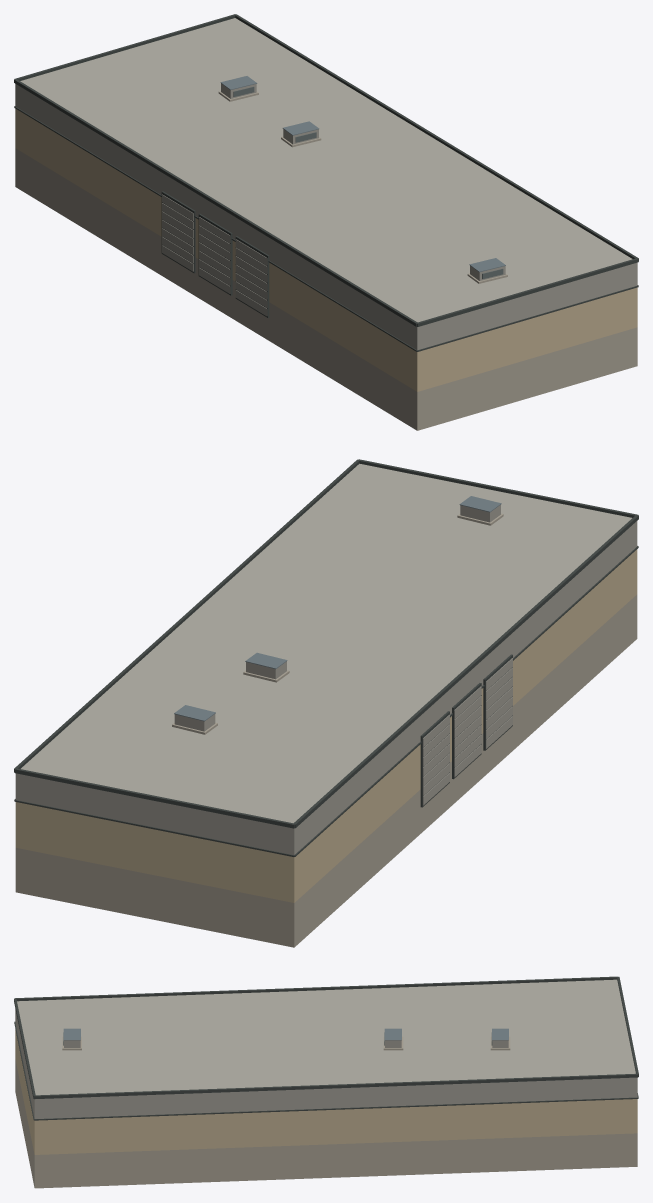
The model's file is oxford-district-transportation.glb.
The picture shows the model from 3 angles, top to bottom: view 1: azimuth 30°, elevation 25°; view 2: azimuth 150°, elevation 25°; view 3: azimuth 270°, elevation 25°; orthographic projection. The views are drawn at different scales.
Parts seen in each view (by area): view 1: 599935971 | Roof, 599935971 | Facades, 599935971 | Shell and foundation; view 2: 599935971 | Roof, 599935971 | Facades, 599935971 | Shell and foundation; view 3: 599935971 | Roof, 599935971 | Shell and foundation, 599935971 | Facades.
Part boxes in pixels (left/top/right/bottom): 599935971 | Roof: left=15, top=18, right=637, bottom=430; 599935971 | Facades: left=14, top=14, right=638, bottom=351; 599935971 | Shell and foundation: left=15, top=108, right=637, bottom=391; 599935971 | Roof: left=15, top=463, right=637, bottom=947; 599935971 | Facades: left=14, top=459, right=638, bottom=856; 599935971 | Shell and foundation: left=15, top=549, right=637, bottom=902; 599935971 | Roof: left=15, top=979, right=637, bottom=1188; 599935971 | Shell and foundation: left=15, top=1029, right=637, bottom=1154; 599935971 | Facades: left=14, top=976, right=638, bottom=1120.
Bounding box in the file's own units: 21.2 × 8.28 × 46.7.
